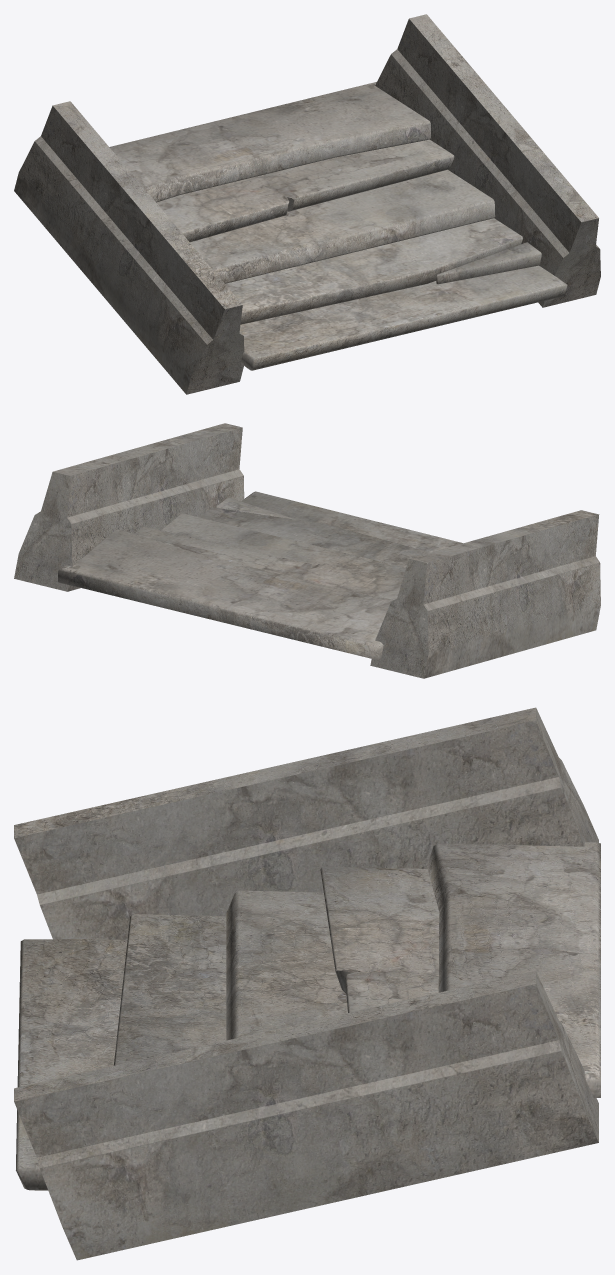
File: steps.FBX
3 views of the same model, one above another, from view 1: azimuth 30°, elevation 25°; view 2: azimuth 150°, elevation 25°; view 3: azimuth 270°, elevation 25° (orthographic). The views are drawn at different scales.
Visible parts, largest first — view 1: Sidewalks, Step_05, Step_03, Step_02, Step_01, Step_04; view 2: Sidewalks, Step_05, Step_02, Step_04, Step_03, Step_01; view 3: Sidewalks, Step_05, Step_01, Step_03, Step_02, Step_04.
Boxes of the visible parts, x1,y1,x2,y2 form: Sidewalks: (14,14,600,394); Step_05: (109,82,430,202); Step_03: (190,169,495,283); Step_02: (225,218,541,324); Step_01: (240,265,567,370); Step_04: (156,139,454,242); Sidewalks: (14,423,600,678); Step_05: (58,529,393,660); Step_02: (200,497,430,567); Step_04: (134,526,402,599); Step_03: (161,513,405,580); Step_01: (242,491,462,552); Sidewalks: (14,707,598,1260); Step_05: (427,842,600,1097); Step_01: (16,939,127,1190); Step_03: (226,890,347,1040); Step_02: (113,914,226,1065); Step_04: (320,866,439,1012).
Bounding box in the file's own units: 690 × 280 × 565.
